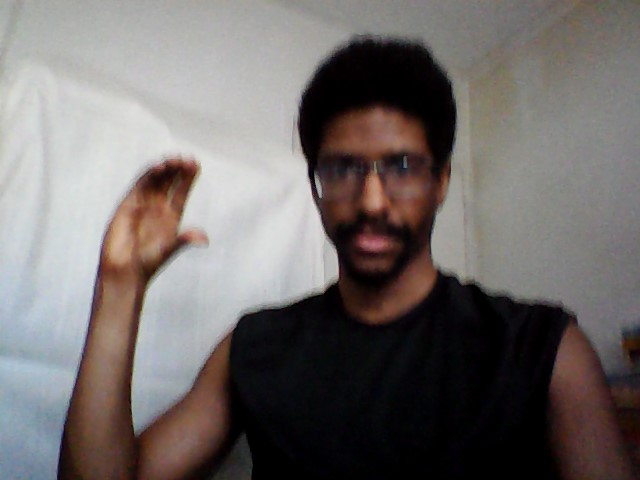c: (98, 151, 214, 279)
